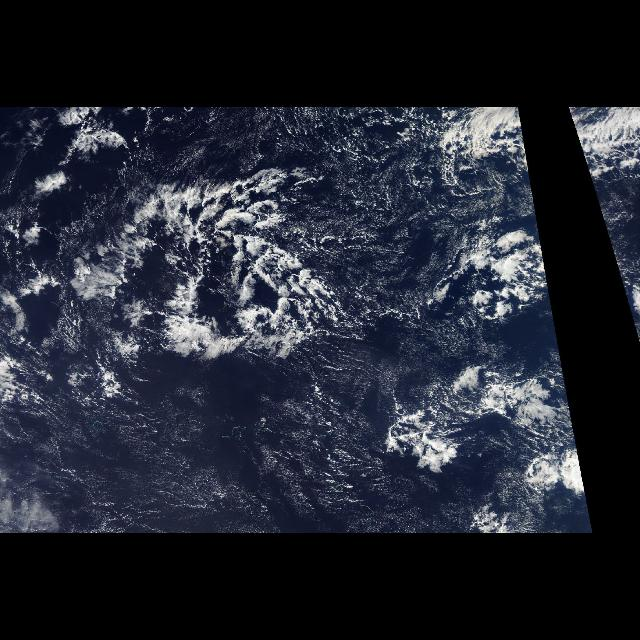Sugar: (16, 361, 368, 531), (330, 108, 444, 292)
